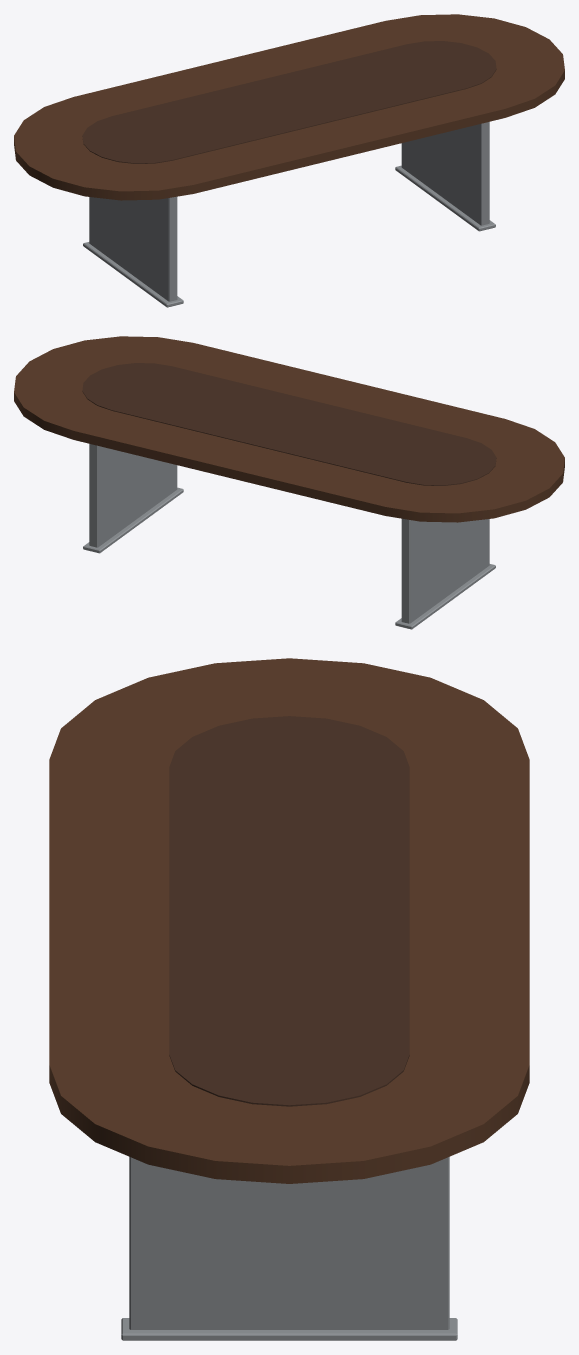
The model's file is prop_table_conference.glb.
The picture shows the model from 3 angles, top to bottom: view 1: azimuth 30°, elevation 25°; view 2: azimuth 150°, elevation 25°; view 3: azimuth 270°, elevation 25°; orthographic projection. The views are drawn at different scales.
Visible parts, largest first — view 1: Table; view 2: Table; view 3: Table.
Part boxes in pixels (left/top/right/bottom): Table: left=14, top=14, right=564, bottom=307; Table: left=14, top=336, right=564, bottom=629; Table: left=49, top=658, right=529, bottom=1340.
Size of what is drawn, in the model's own units: 3 by 0.744 by 1.2.
